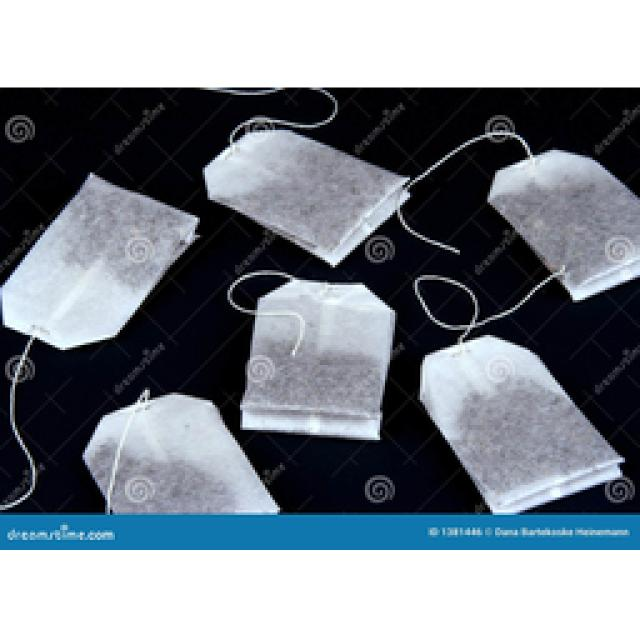tea-bags: (202, 130, 465, 265), (420, 335, 622, 510), (0, 175, 195, 348), (240, 278, 392, 438), (82, 390, 278, 512), (488, 145, 638, 300)
